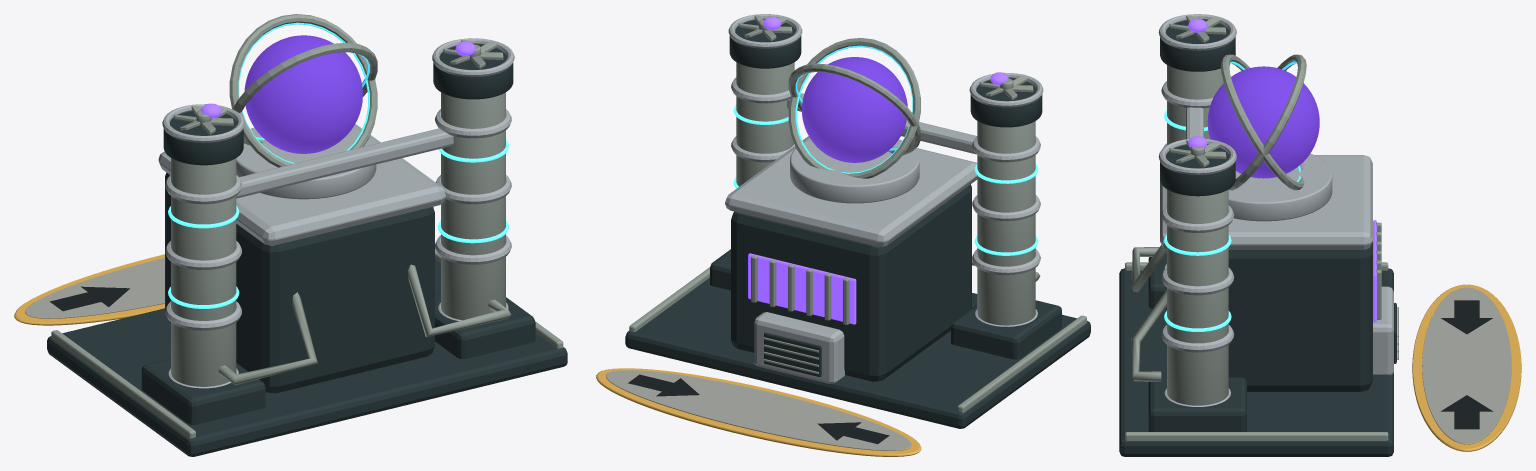
File: battlecity-orb-factory.glb
3 views of the same model, side by side, from view 1: azimuth 30°, elevation 25°; view 2: azimuth 150°, elevation 25°; view 3: azimuth 270°, elevation 25° (orthographic). The views are drawn at different scales.
Parts seen in each view (by area): view 1: DX dark machinery, Brushed steel, DX chrome, Orb plasma shell, Pale stone apron, Brushed steel Orb containment gimbal 1, Brushed steel Orb containment gimbal -1, Command gold, Command glow, Lettering charcoal, Brushed steel Factory intake turbine -1, Brushed steel Factory intake turbine 1 (+1 smaller); view 2: DX dark machinery, DX chrome, Brushed steel, Pale stone apron, Orb plasma shell, Orb containment glow, Command gold, Brushed steel Orb containment gimbal -1, Lettering charcoal, Brushed steel Orb containment gimbal 1, Command glow, Brushed steel Factory intake turbine -1 (+2 smaller); view 3: DX dark machinery, DX chrome, Brushed steel, Pale stone apron, Orb plasma shell, Command gold, Lettering charcoal, Brushed steel Orb containment gimbal -1, Brushed steel Orb containment gimbal 1, Command glow, Orb containment glow, Brushed steel Factory intake turbine 1 (+1 smaller).
Boxes of the visible parts, bbox=[...] form: DX dark machinery: bbox=[47, 44, 567, 456]; Brushed steel: bbox=[51, 92, 563, 438]; DX chrome: bbox=[158, 38, 514, 388]; Orb plasma shell: bbox=[244, 35, 362, 153]; Pale stone apron: bbox=[25, 257, 164, 318]; Brushed steel Orb containment gimbal 1: bbox=[229, 14, 377, 167]; Brushed steel Orb containment gimbal -1: bbox=[233, 42, 377, 145]; Command gold: bbox=[14, 254, 164, 325]; Command glow: bbox=[168, 140, 508, 308]; Lettering charcoal: bbox=[50, 286, 129, 311]; Brushed steel Factory intake turbine -1: bbox=[173, 105, 233, 134]; Brushed steel Factory intake turbine 1: bbox=[443, 40, 503, 68]; DX dark machinery: bbox=[625, 19, 1090, 428]; DX chrome: bbox=[725, 14, 1043, 383]; Brushed steel: bbox=[629, 62, 1086, 412]; Pale stone apron: bbox=[606, 370, 911, 450]; Orb plasma shell: bbox=[802, 57, 907, 162]; Orb containment glow: bbox=[748, 16, 1008, 324]; Command gold: bbox=[596, 368, 921, 456]; Brushed steel Orb containment gimbal -1: bbox=[788, 38, 920, 178]; Lettering charcoal: bbox=[628, 374, 889, 444]; Brushed steel Orb containment gimbal 1: bbox=[788, 63, 920, 155]; Command glow: bbox=[733, 105, 1038, 255]; Brushed steel Factory intake turbine -1: bbox=[979, 75, 1033, 100]; DX dark machinery: bbox=[1119, 20, 1396, 456]; DX chrome: bbox=[1158, 14, 1393, 406]; Brushed steel: bbox=[1125, 65, 1398, 440]; Pale stone apron: bbox=[1422, 287, 1511, 444]; Orb plasma shell: bbox=[1207, 66, 1319, 178]; Command gold: bbox=[1412, 284, 1521, 451]; Lettering charcoal: bbox=[1440, 300, 1493, 429]; Brushed steel Orb containment gimbal -1: bbox=[1220, 54, 1304, 190]; Brushed steel Orb containment gimbal 1: bbox=[1228, 54, 1306, 190]; Command glow: bbox=[1164, 110, 1231, 331]; Orb containment glow: bbox=[1188, 18, 1376, 322]; Brushed steel Factory intake turbine 1: bbox=[1169, 140, 1226, 167].
Size of the model in its own units: 2.96 by 2.43 by 2.87.
